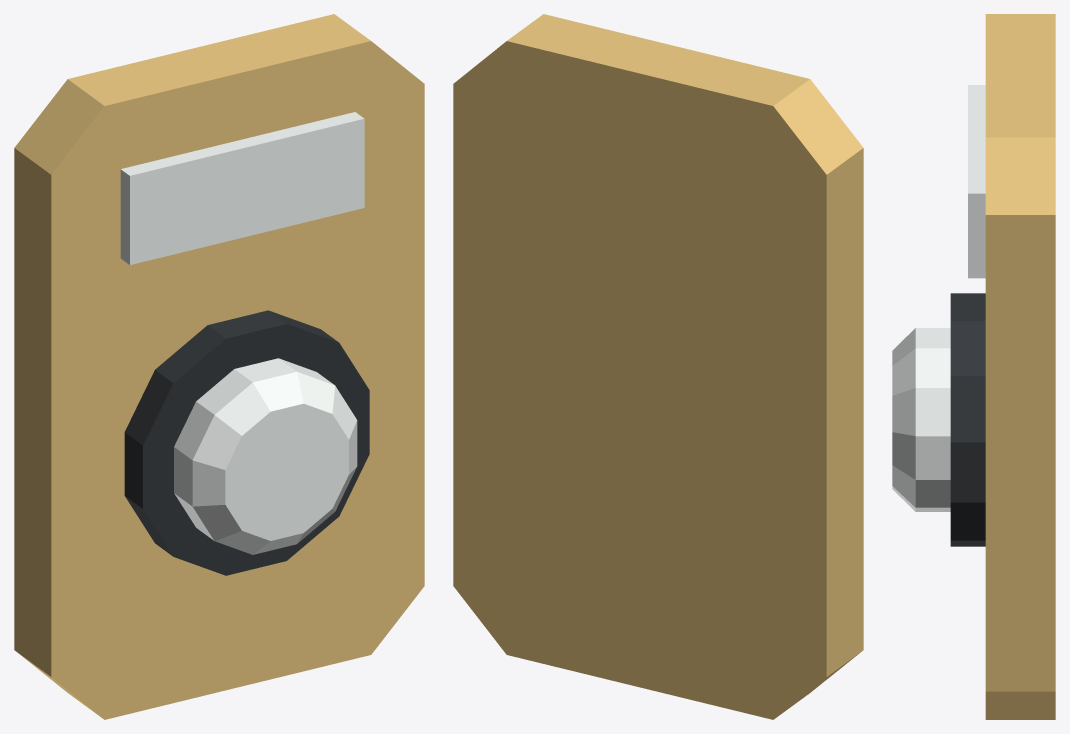
File: doorbell.glb
3 renders of one model, left to right at view 1: azimuth 30°, elevation 25°; view 2: azimuth 150°, elevation 25°; view 3: azimuth 270°, elevation 25°, orthographic. The views are drawn at different scales.
Visible parts, largest first — view 1: plate, button; view 2: plate; view 3: plate, button.
Part boxes in pixels (bbox=[...]): plate: bbox=[14, 14, 424, 719]; button: bbox=[174, 358, 357, 554]; plate: bbox=[453, 14, 863, 719]; plate: bbox=[950, 14, 1055, 719]; button: bbox=[892, 328, 950, 511].
Size of the model in its own units: 0.07 by 0.11 by 0.028.
